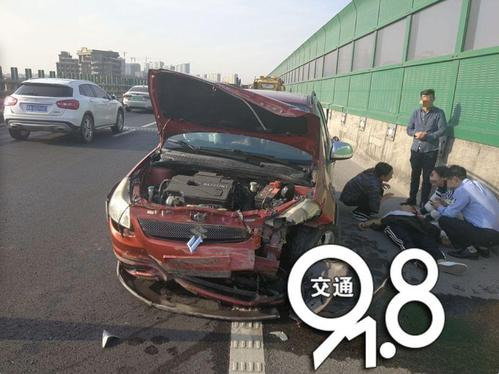fall: (355, 201, 476, 278)
